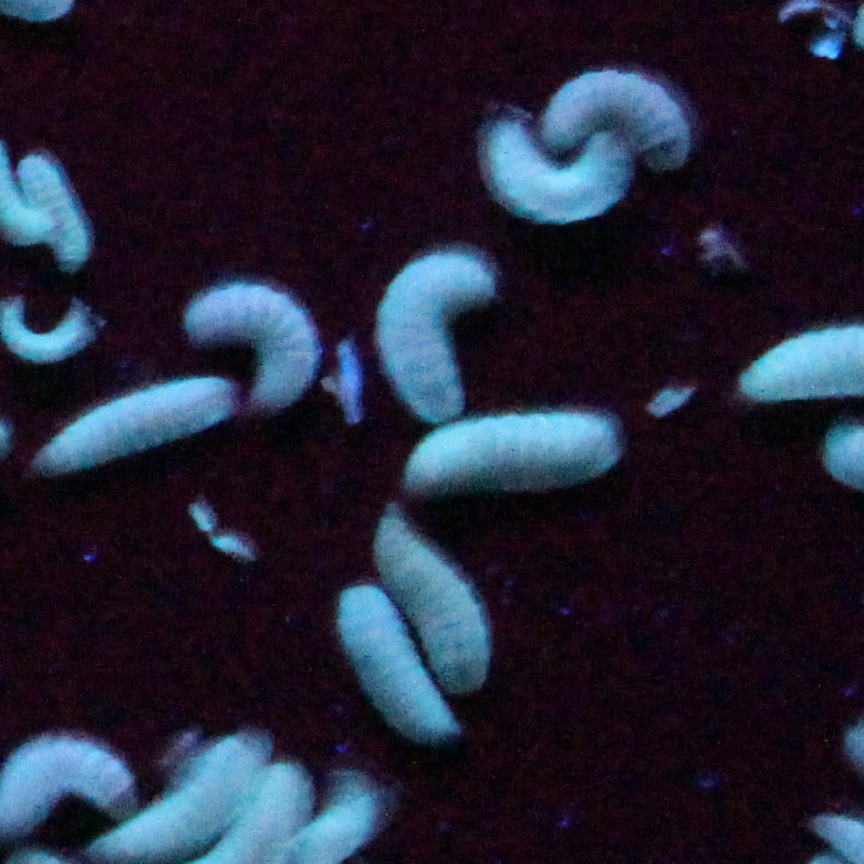larve: (387, 510, 492, 695), (38, 378, 232, 471), (344, 584, 448, 752), (382, 254, 485, 421), (412, 410, 612, 493), (103, 751, 251, 855), (539, 75, 689, 170), (194, 282, 314, 397), (486, 132, 624, 231), (25, 158, 92, 270)
